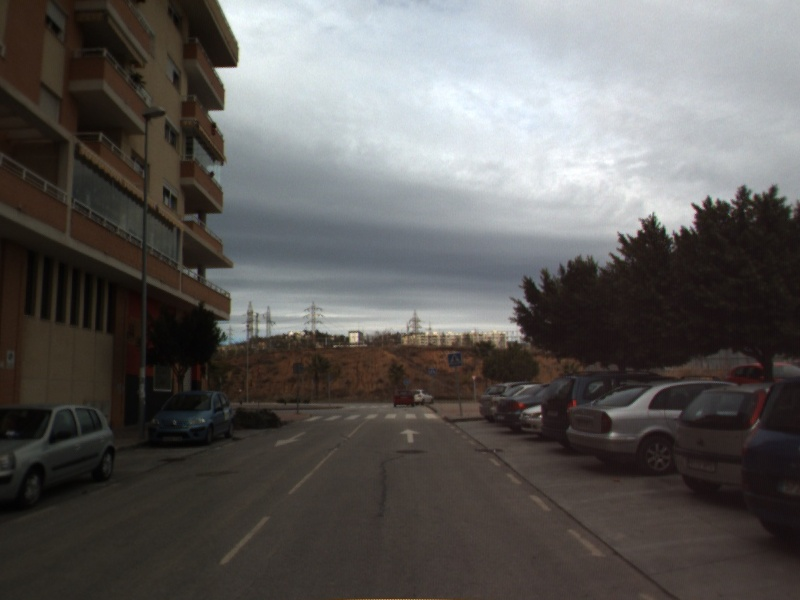STRAIGHT: (398, 426, 423, 445)
